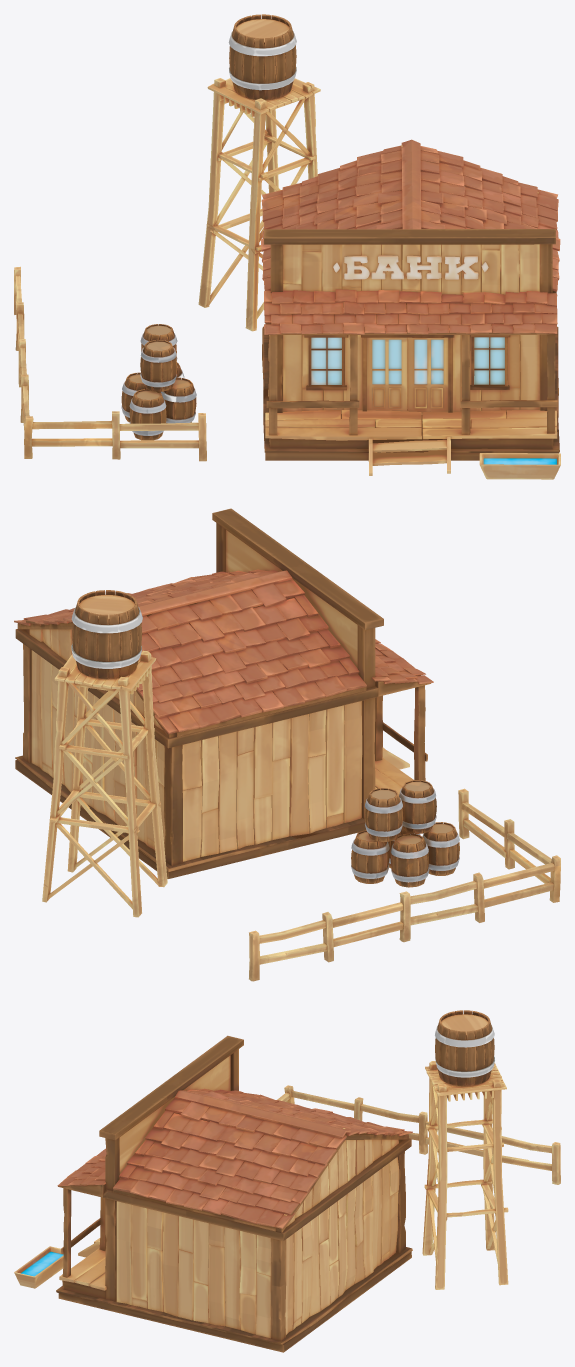
The model's file is wild_west_bank.glb.
3 views of the same model, one above another, from view 1: azimuth 30°, elevation 25°; view 2: azimuth 150°, elevation 25°; view 3: azimuth 270°, elevation 25° (orthographic). The views are drawn at different scales.
Visible parts, largest first — view 1: bank_Baked, bank elements_Baked; view 2: bank_Baked, bank elements_Baked; view 3: bank_Baked, bank elements_Baked.
Part boxes in pixels (x1,y1,x2,y2): bank_Baked: (261, 139, 560, 479); bank elements_Baked: (14, 14, 320, 461); bank_Baked: (14, 508, 433, 878); bank elements_Baked: (42, 590, 560, 981); bank_Baked: (14, 1035, 412, 1352); bank elements_Baked: (277, 1010, 560, 1289).
Bounding box in the file's own units: 13.59 × 6.91 × 13.71.
2 materials, 2 textured.
